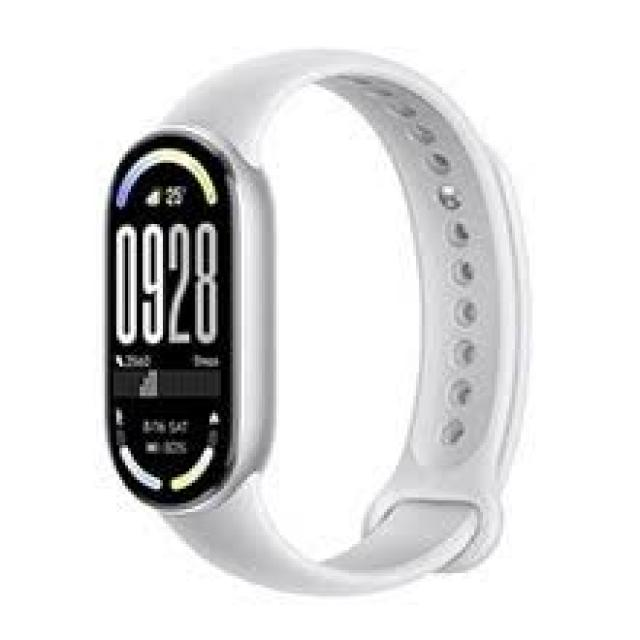objects: (105, 52, 524, 597)
